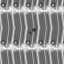dust: (32, 28, 36, 31), (29, 31, 32, 35)
